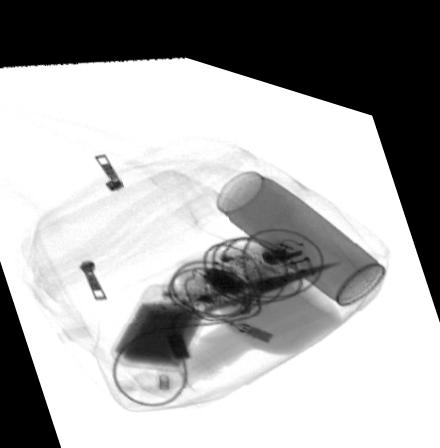Powerbank: (110, 272, 209, 361)
Scissors: (154, 239, 349, 324)
